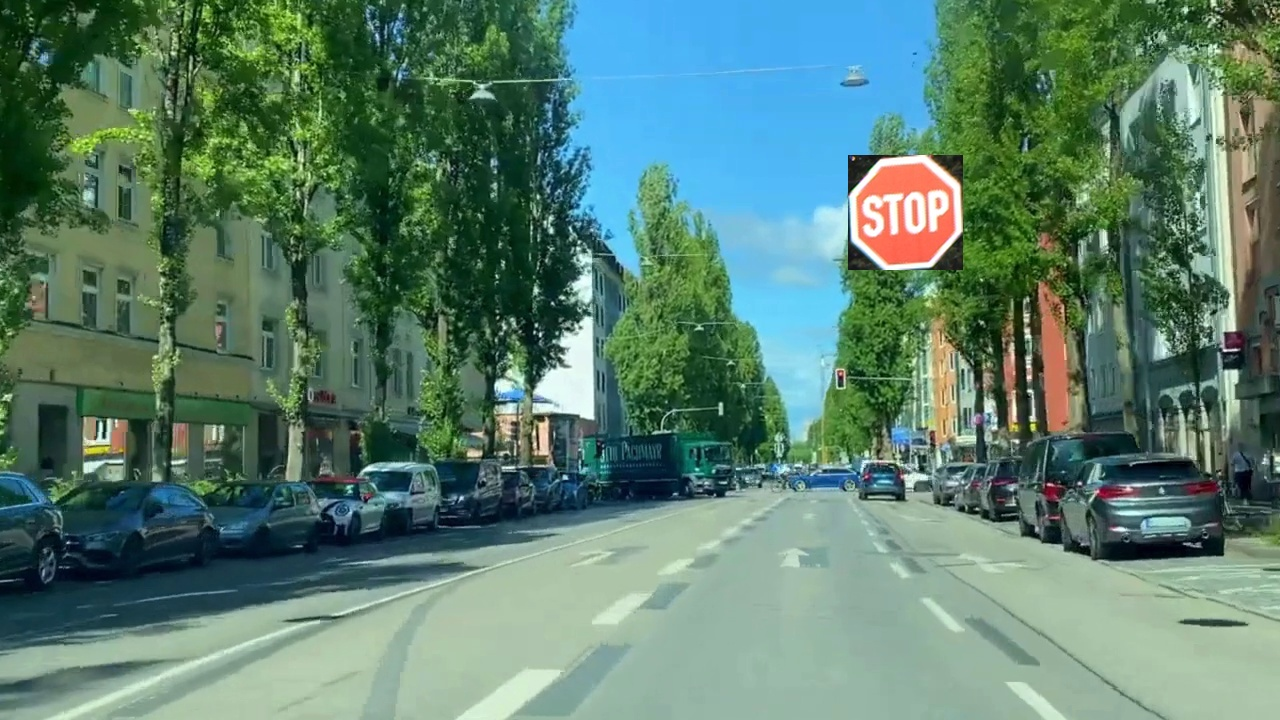Stop: (848, 155, 963, 270)
